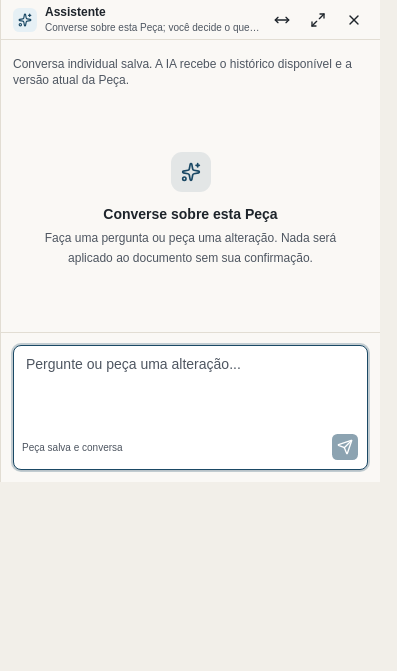
Scenario: AssistantPanel › só altera a Peça depois da ação explícita de aplicar
Type "Reescreva o parágrafo inicial." into the text box named "O que você quer que a IA faça?" at x=190, y=386, box [14,346,367,426]
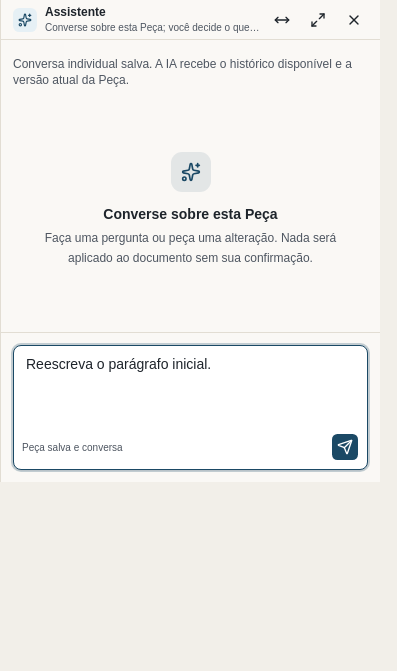
Click the button named "Enviar para IA" at x=345, y=447, box [331,433,359,461]
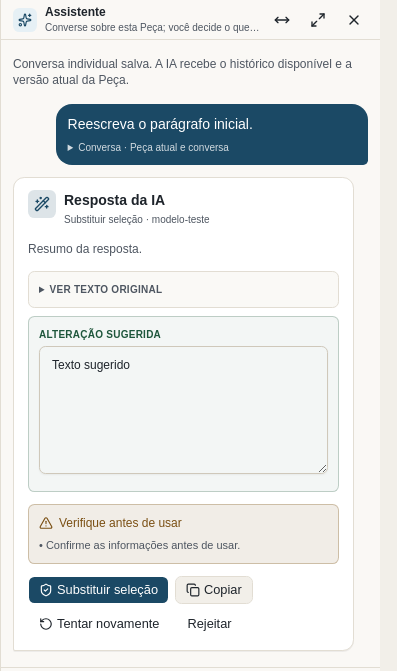
Click the heading "Ver texto original" at x=106, y=290, box [50,284,162,295]
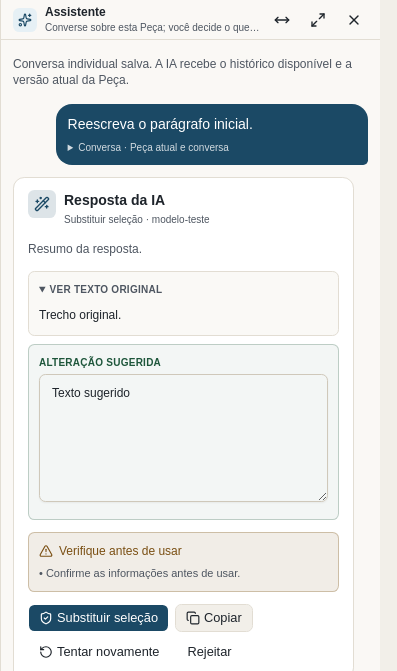
Result: the text "Trecho original." is shown at [39,308,121,322]
Replace the text in the text box showing "Texto sugerido" with "Texto revisado pelo usuário." at x=183, y=438, box [39,374,328,502]
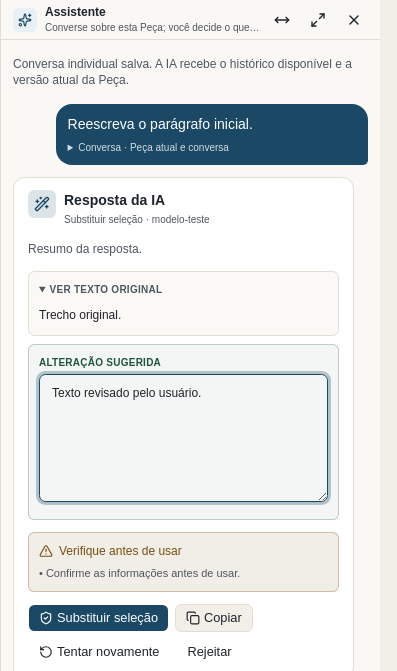
Result: the text "Trecho original." is shown at [39,308,121,322]
Click the button "Substituir seleção" at x=98, y=618, box [28,604,169,632]
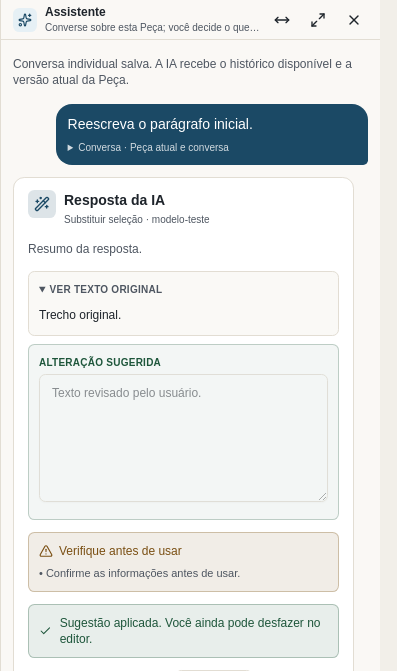
Expected: the field showing "Texto sugerido" does not show "Trecho original."
Result: the text "Sugestão aplicada. Você ainda pode desfazer no editor." is shown at [28,604,339,658]
